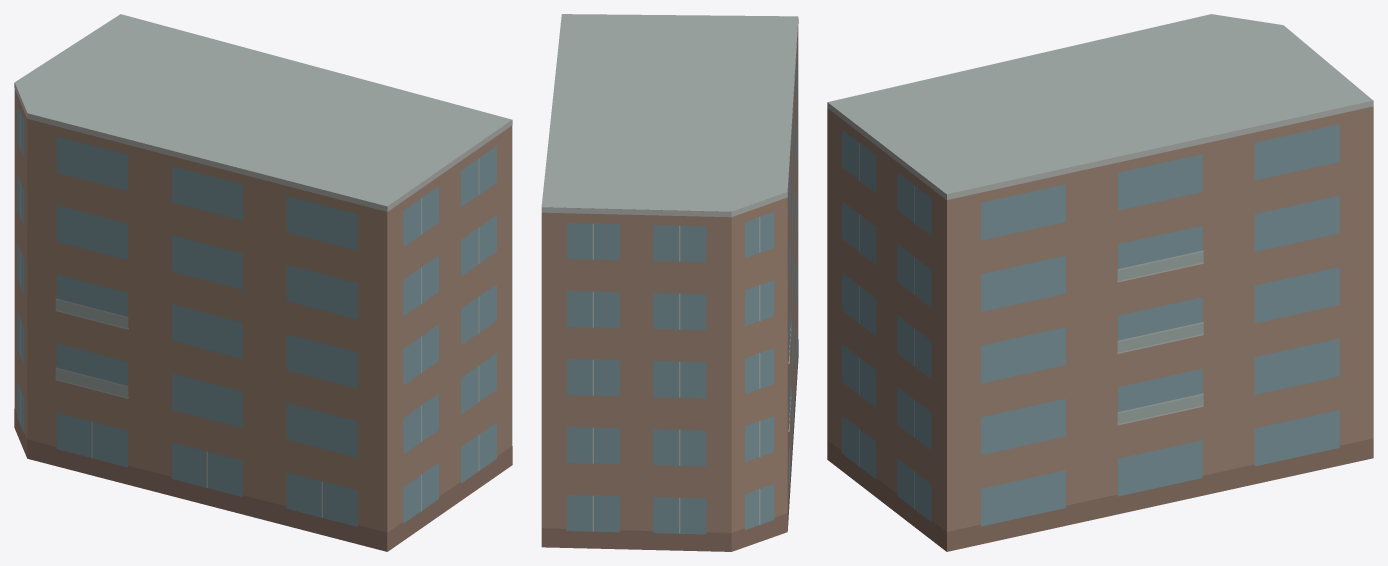
The model's file is survey-upis-32962185.glb.
3 renders of one model, left to right at view 1: azimuth 30°, elevation 25°; view 2: azimuth 150°, elevation 25°; view 3: azimuth 270°, elevation 25°, orthographic. The views are drawn at different scales.
Parts seen in each view (by area): view 1: survey-upis-32962185.tmp; view 2: survey-upis-32962185.tmp; view 3: survey-upis-32962185.tmp.
Boxes of the visible parts, x1,y1,x2,y2 form: survey-upis-32962185.tmp: [14, 14, 512, 551]; survey-upis-32962185.tmp: [541, 14, 798, 551]; survey-upis-32962185.tmp: [827, 14, 1373, 551].
Bounding box in the file's own units: 16.46 × 15.2 × 21.06.
